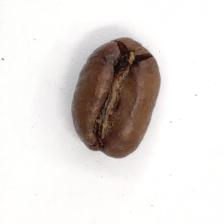NG: (91, 47, 144, 143)
